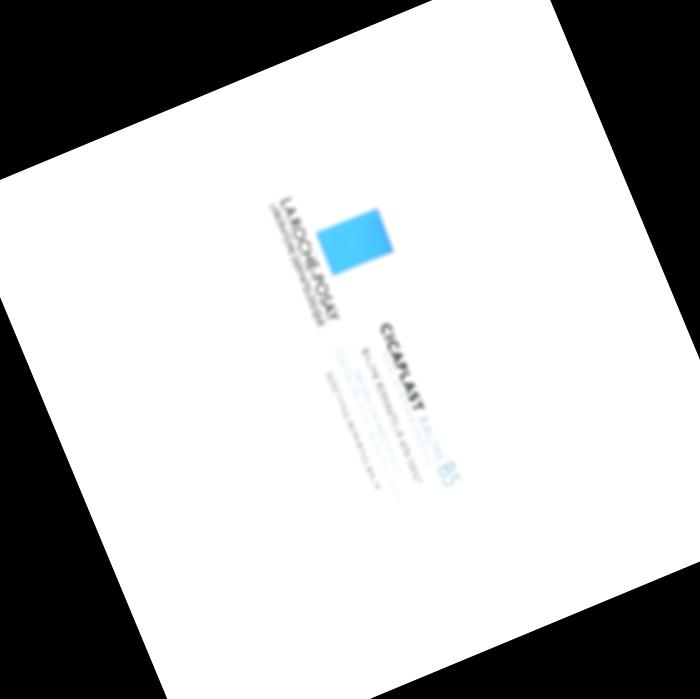cosmetic: (167, 83, 579, 654)
